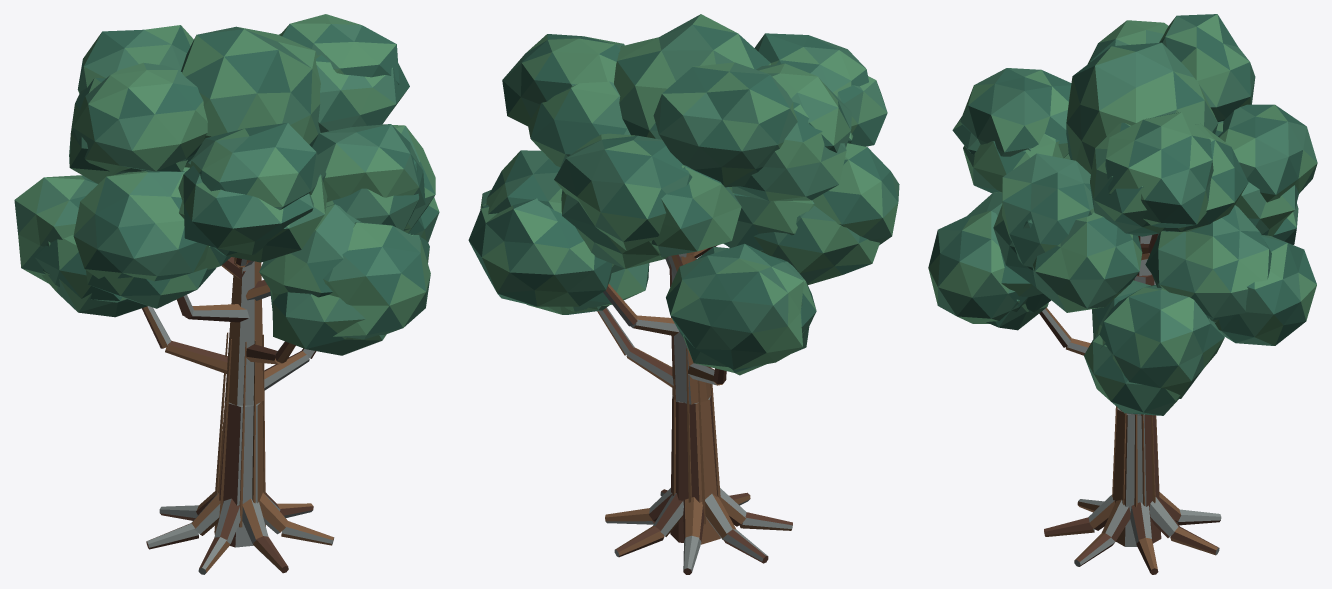
File: dark_tree_a.glb
3 views of the same model, side by side, from view 1: azimuth 30°, elevation 25°; view 2: azimuth 150°, elevation 25°; view 3: azimuth 270°, elevation 25° (orthographic). The views are drawn at different scales.
Parts seen in each view (by area): view 1: dark_tree_a; view 2: dark_tree_a; view 3: dark_tree_a.
Part boxes in pixels (x1,y1,x2,y2): dark_tree_a: (14, 14, 439, 574); dark_tree_a: (468, 14, 899, 574); dark_tree_a: (928, 14, 1317, 574).
Size of the model in its own units: 3.9 by 5 by 3.62.
